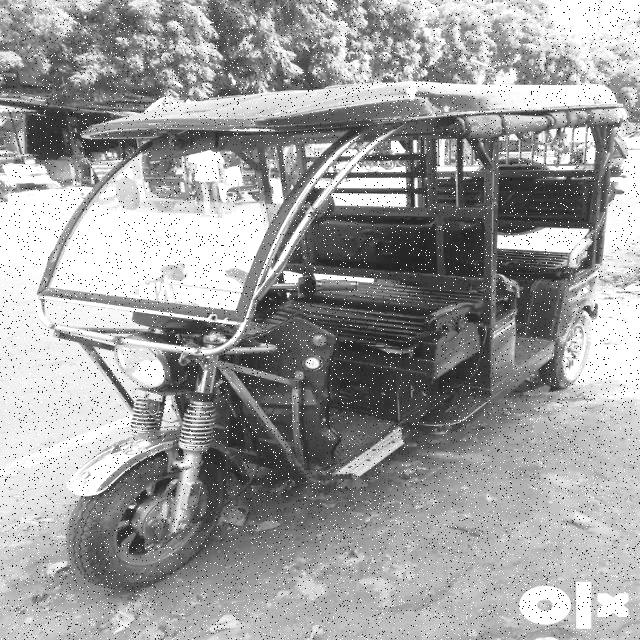Toto: (40, 72, 622, 584)
